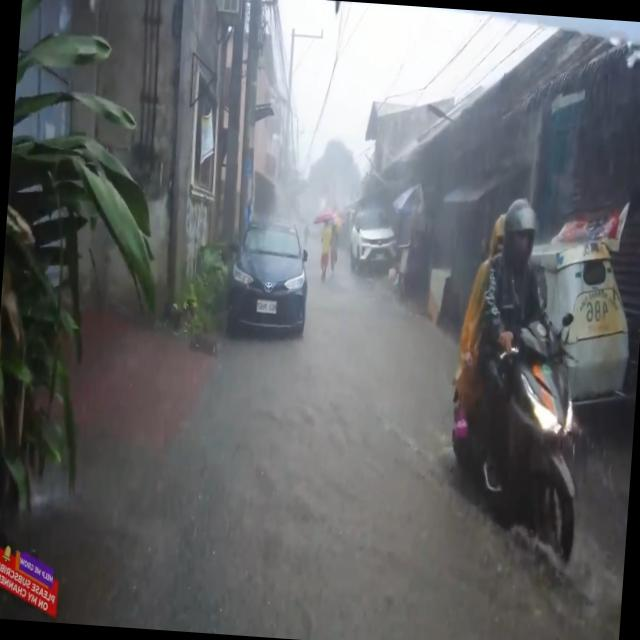half: (502, 192, 538, 267)
